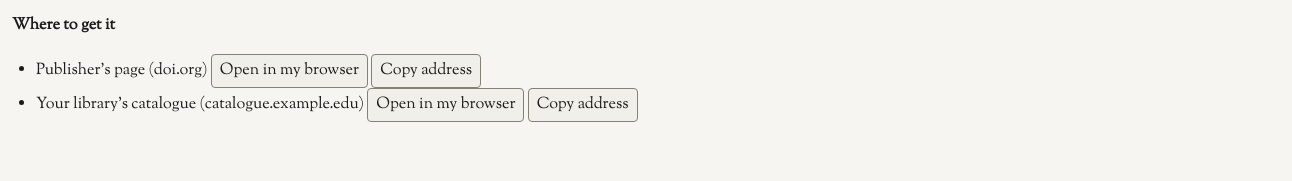
it: WhereToGetIt in the desktop app (R340 d) › Copy address copies exactly that address and says so once (as R311 built it)
Click the button "Copy address" in the row of "Your library's catalogue": (583,105) [528,88,638,122]
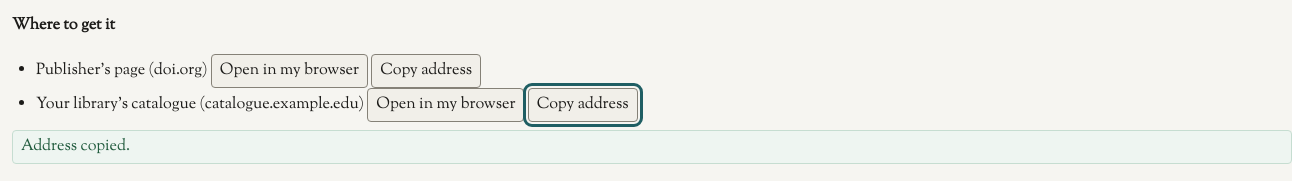
Result: the text "Address copied." is shown once at [12,130,1291,164]
